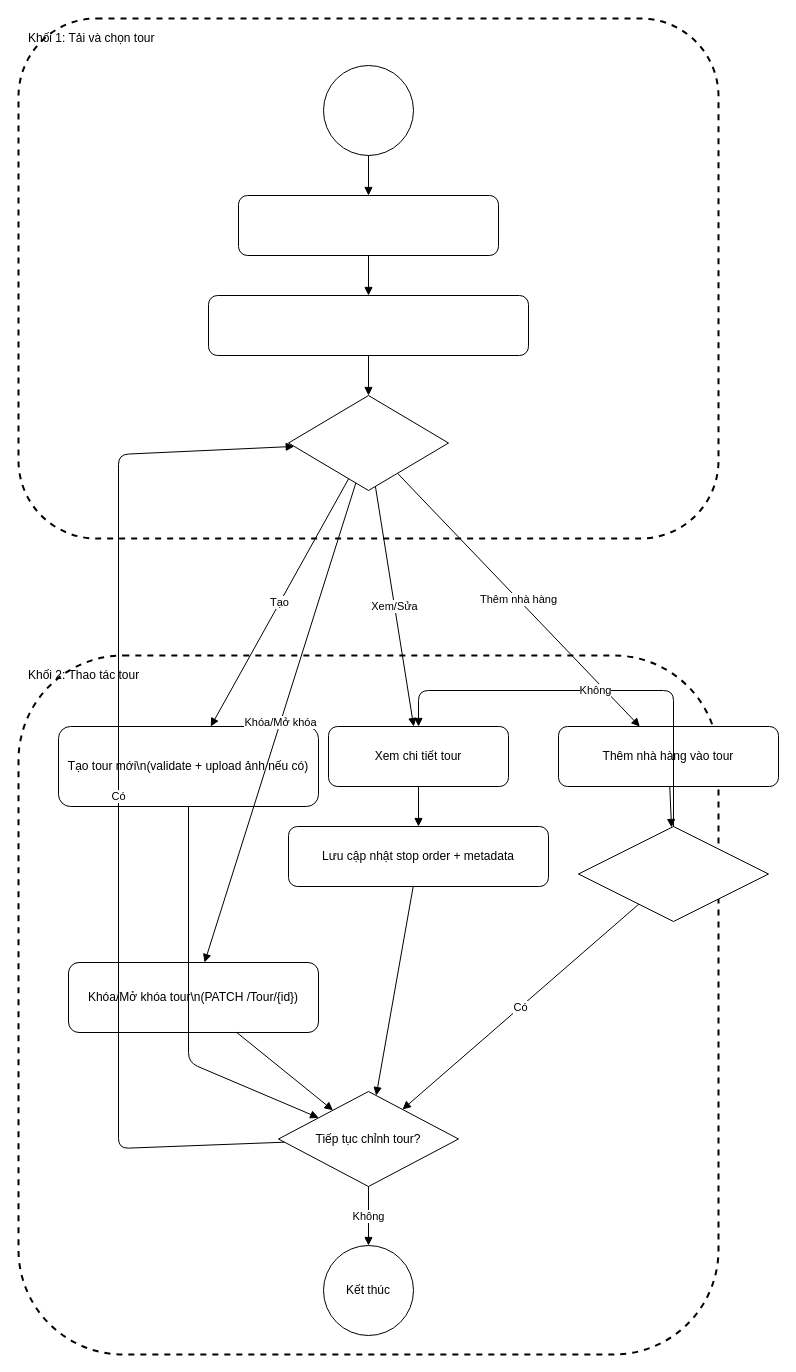
Some shapes in this 796 by 1372 pixel diagram are drawn without their labels. The centre of each missing label's shape, as x and y in pixels:
"Bắt đầu" goes at (x=368, y=110).
"Chọn thao tác tour" goes at (x=368, y=442).
"Không có unsaved changes?" goes at (x=673, y=874).
"Mở trang Tour" goes at (x=368, y=225).
"Tải danh sách tour + dữ liệu nhà hàng" goes at (x=368, y=325).
